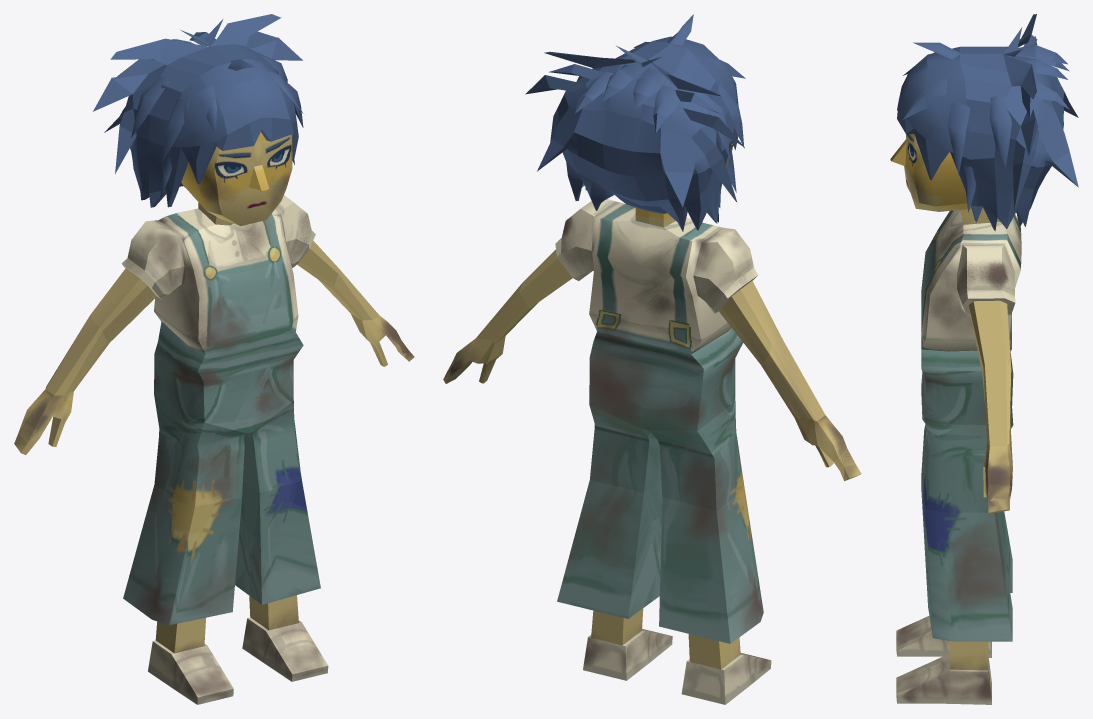
The model's file is marshBase.fbx.
The picture shows the model from 3 angles, left to right: view 1: azimuth 30°, elevation 25°; view 2: azimuth 150°, elevation 25°; view 3: azimuth 270°, elevation 25°; orthographic projection. The views are drawn at different scales.
Parts seen in each view (by area): view 1: marsh_final_V03:Marsh_BODY, marsh_final_V03:polySurface23, marsh_final_V03:Marsh_head, marsh_final_V03:polySurface14, marsh_final_V03:polySurface5, marsh_final_V03:polySurface26, marsh_final_V03:polySurface17; view 2: marsh_final_V03:Marsh_BODY, marsh_final_V03:polySurface23, marsh_final_V03:polySurface22, marsh_final_V03:polySurface10, marsh_final_V03:polySurface5; view 3: marsh_final_V03:Marsh_BODY, marsh_final_V03:polySurface23, marsh_final_V03:Marsh_head, marsh_final_V03:polySurface14, marsh_final_V03:polySurface16, marsh_final_V03:polySurface22, marsh_final_V03:polySurface26, marsh_final_V03:polySurface10, marsh_final_V03:polySurface2, marsh_final_V03:polySurface18, marsh_final_V03:polySurface5.
Part boxes in pixels (x1=…): marsh_final_V03:Marsh_BODY: x1=14, y1=195, x2=414, y2=704; marsh_final_V03:polySurface23: x1=93, y1=14, x2=302, y2=207; marsh_final_V03:Marsh_head: x1=181, y1=132, x2=292, y2=226; marsh_final_V03:polySurface14: x1=131, y1=52, x2=287, y2=137; marsh_final_V03:polySurface5: x1=115, y1=31, x2=279, y2=78; marsh_final_V03:polySurface26: x1=196, y1=71, x2=303, y2=136; marsh_final_V03:polySurface17: x1=162, y1=99, x2=189, y2=162; marsh_final_V03:Marsh_BODY: x1=443, y1=199, x2=861, y2=704; marsh_final_V03:polySurface23: x1=525, y1=36, x2=744, y2=231; marsh_final_V03:polySurface22: x1=602, y1=64, x2=666, y2=109; marsh_final_V03:polySurface10: x1=575, y1=71, x2=678, y2=133; marsh_final_V03:polySurface5: x1=549, y1=64, x2=720, y2=113; marsh_final_V03:Marsh_BODY: x1=896, y1=208, x2=1021, y2=704; marsh_final_V03:polySurface23: x1=897, y1=14, x2=1078, y2=230; marsh_final_V03:Marsh_head: x1=890, y1=134, x2=971, y2=211; marsh_final_V03:polySurface14: x1=989, y1=95, x2=1011, y2=167; marsh_final_V03:polySurface16: x1=947, y1=101, x2=969, y2=174; marsh_final_V03:polySurface22: x1=1012, y1=44, x2=1067, y2=79; marsh_final_V03:polySurface26: x1=903, y1=52, x2=946, y2=119; marsh_final_V03:polySurface10: x1=1028, y1=56, x2=1069, y2=109; marsh_final_V03:polySurface2: x1=913, y1=42, x2=962, y2=59; marsh_final_V03:polySurface18: x1=962, y1=165, x2=975, y2=212; marsh_final_V03:polySurface5: x1=1020, y1=34, x2=1037, y2=116.
Size of the model in its own units: 9.12 by 13.72 by 3.71.
3 materials, 3 textured.
